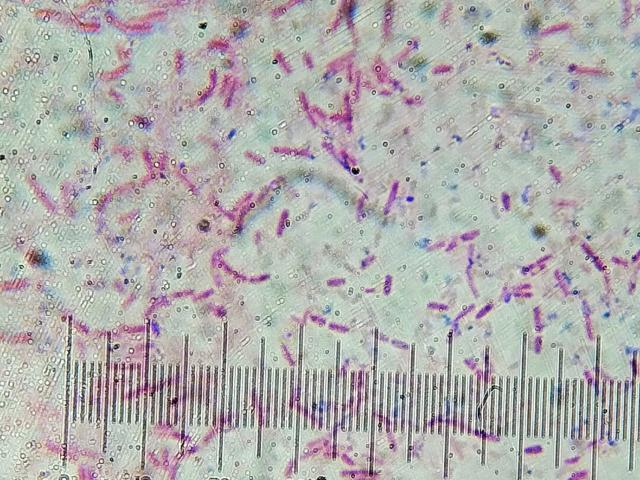E. coli: (47, 9, 95, 33), (329, 145, 362, 173), (580, 237, 605, 272), (465, 246, 482, 297), (95, 182, 130, 206), (25, 173, 49, 207), (5, 327, 36, 352), (270, 144, 314, 161), (375, 1, 395, 37), (214, 258, 242, 282), (271, 207, 292, 239), (110, 14, 138, 36), (59, 185, 81, 213), (382, 180, 400, 214), (537, 21, 573, 38), (553, 269, 573, 299), (573, 61, 606, 79), (435, 0, 454, 31), (173, 48, 193, 76), (97, 61, 129, 77), (618, 0, 634, 31), (269, 47, 288, 73), (343, 96, 356, 134), (521, 253, 547, 271), (160, 291, 193, 305), (2, 272, 25, 291), (348, 466, 379, 480), (353, 196, 370, 221), (225, 78, 238, 110), (456, 300, 474, 323), (459, 224, 482, 242), (209, 34, 230, 53), (431, 62, 457, 77), (204, 68, 216, 100), (120, 288, 137, 310), (528, 303, 542, 329), (549, 162, 564, 186), (110, 85, 127, 106), (345, 4, 356, 36), (498, 190, 514, 212), (327, 50, 352, 64), (242, 149, 261, 167), (390, 334, 410, 351), (192, 284, 210, 302), (476, 302, 495, 319), (322, 275, 346, 288), (123, 322, 145, 336), (298, 92, 309, 120), (280, 344, 295, 364), (246, 270, 269, 283), (521, 443, 544, 456), (424, 238, 444, 252), (503, 280, 531, 290), (174, 177, 195, 190), (332, 322, 353, 335), (425, 298, 446, 311), (78, 319, 94, 336), (79, 464, 96, 480), (255, 185, 271, 202), (353, 69, 363, 96), (395, 45, 409, 64), (120, 211, 144, 222), (570, 468, 592, 480), (583, 311, 593, 336), (219, 199, 231, 219), (372, 61, 387, 77), (115, 41, 129, 58), (301, 54, 315, 71), (211, 307, 229, 320), (382, 275, 393, 296), (141, 299, 155, 315), (360, 253, 377, 266), (312, 312, 326, 327), (218, 74, 227, 97), (155, 151, 164, 173), (340, 451, 353, 466), (238, 208, 246, 232), (140, 150, 150, 169), (335, 115, 354, 125), (330, 8, 340, 27), (566, 454, 579, 468), (305, 448, 322, 458), (464, 355, 477, 368), (238, 191, 250, 205), (73, 319, 82, 337), (534, 336, 543, 354), (168, 429, 184, 439), (372, 328, 385, 340), (515, 289, 533, 297), (629, 270, 637, 288), (404, 92, 415, 104), (311, 434, 323, 445), (344, 62, 352, 78), (161, 449, 168, 467), (149, 452, 157, 467), (612, 256, 622, 268), (282, 455, 289, 472), (171, 462, 179, 476), (630, 246, 640, 257), (582, 367, 590, 380), (313, 107, 323, 117), (380, 86, 390, 96), (448, 241, 456, 253)
